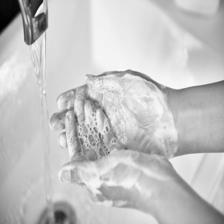Hand: (13, 98, 206, 203), (39, 52, 206, 154)
